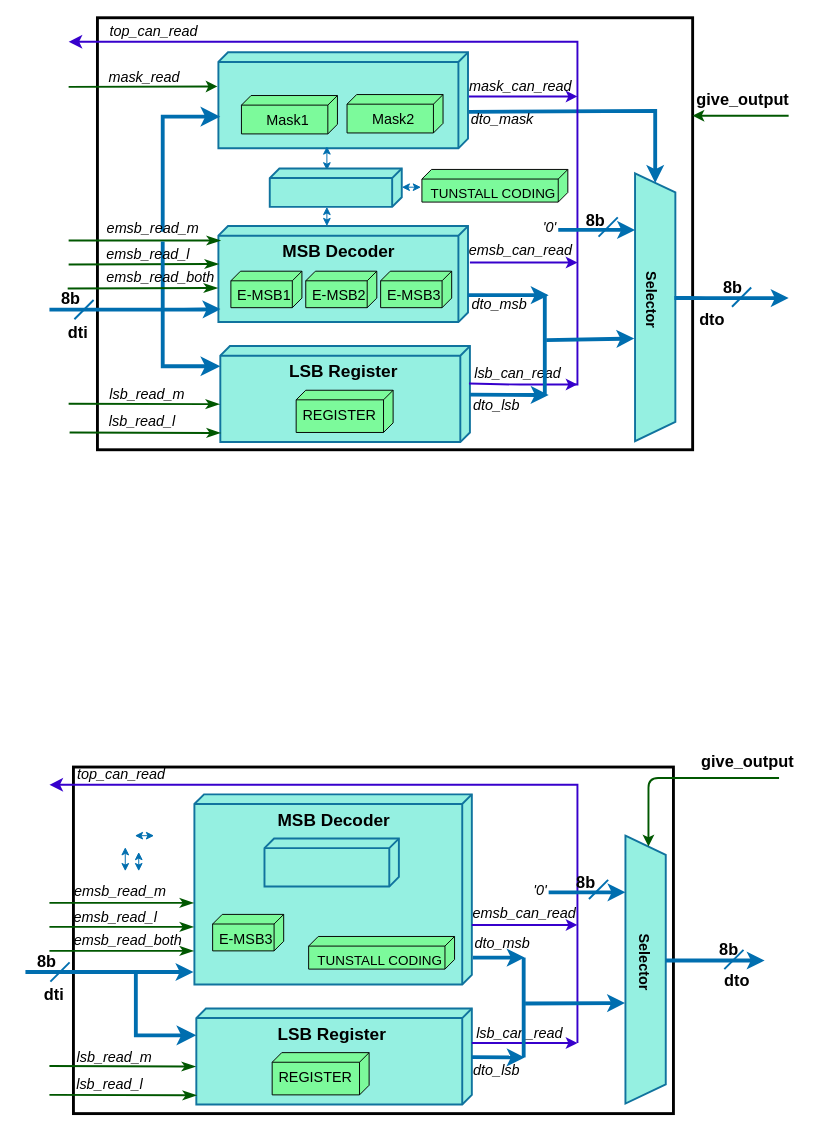
Some shapes in this 824 by 1132 pixel diagram are drawn without their labels. Each missing label, with the centre of its shape:
Coordinator: the point at 335,187
DECODING COORDINATOR: the point at 331,862
Mask Decoder: the point at 342,100
